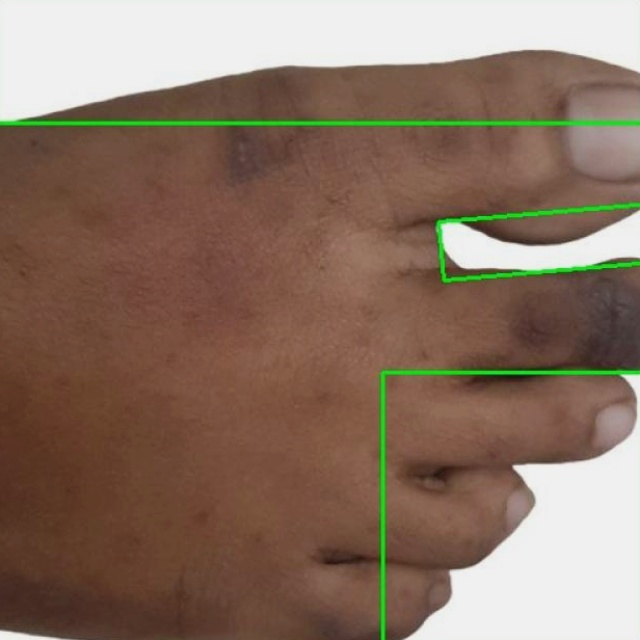Tinea Corporis: (0, 0, 639, 123), (381, 373, 639, 639), (437, 205, 639, 280)
